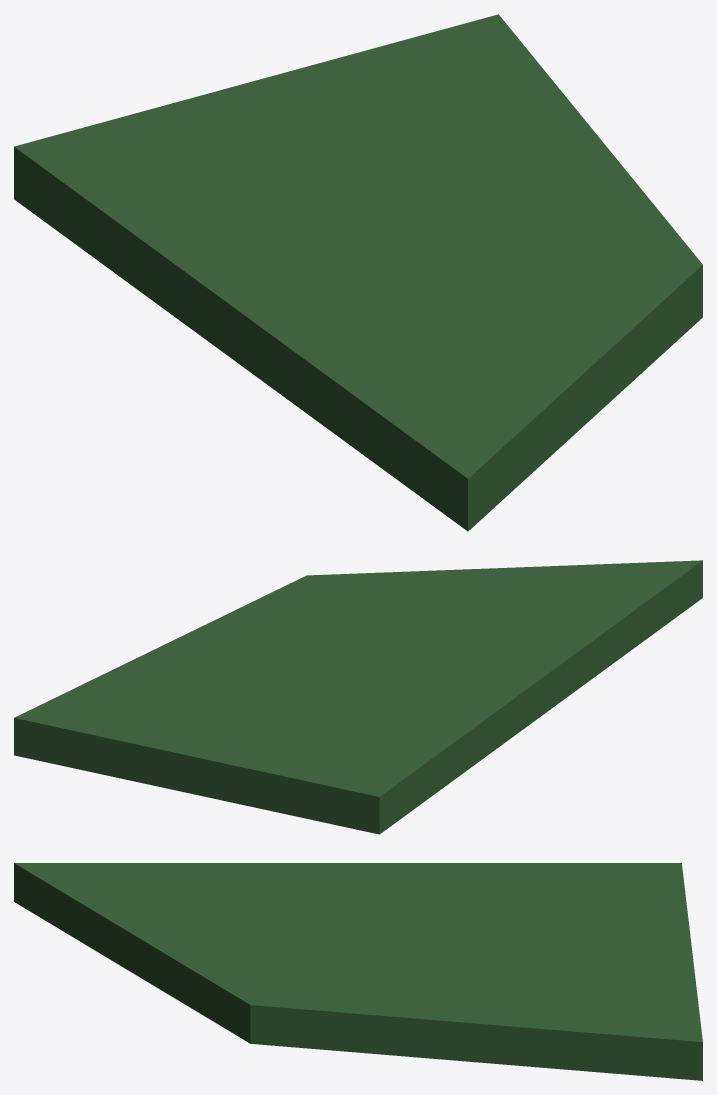
The model's file is x_proval_00_208_1_rmstrd.fbx.
3 views of the same model, one above another, from view 1: azimuth 30°, elevation 25°; view 2: azimuth 150°, elevation 25°; view 3: azimuth 270°, elevation 25° (orthographic). The views are drawn at different scales.
Visible parts, largest first — view 1: x_proval_00_208_1_rmstrd1; view 2: x_proval_00_208_1_rmstrd1; view 3: x_proval_00_208_1_rmstrd1.
Part boxes in pixels (x1,y1,x2,y2): x_proval_00_208_1_rmstrd1: (14,14,702,531); x_proval_00_208_1_rmstrd1: (14,560,702,834); x_proval_00_208_1_rmstrd1: (14,863,702,1080).
Bounding box in the file's own units: 1.98 × 0.2 × 3.22.
